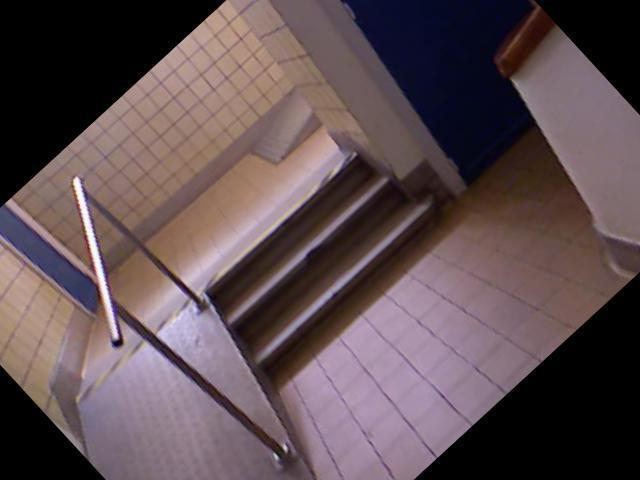Escaleras: (206, 140, 440, 367)
